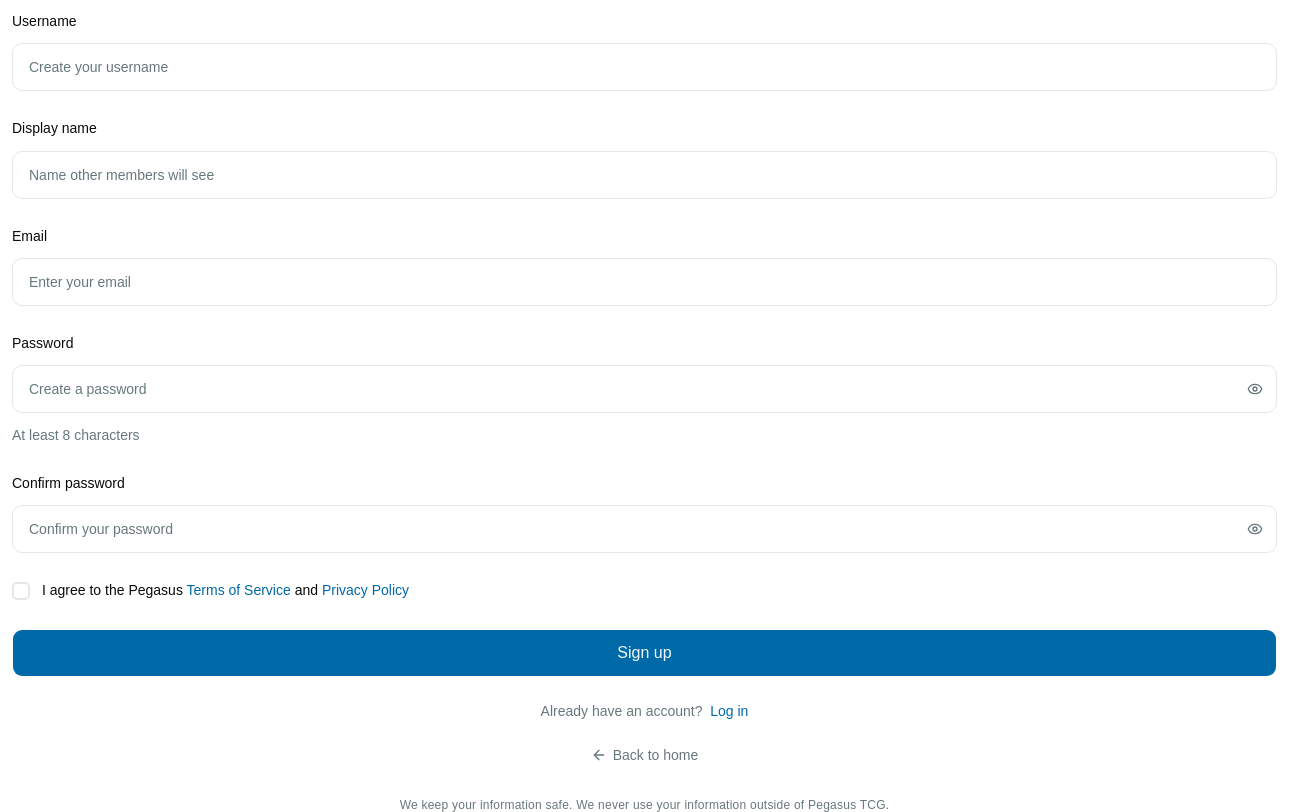
Test: RegisterForm › opens legal pages from their links while the agreement checkbox stays separate
Expected: the 1st checkbox is not checked, [12,582,30,600]
What coordinates should you click on to do the following:
click the checkbox "I agree to the Pegasus"
I would click on:
 (112, 590)
Its box is [42,582,183,598].
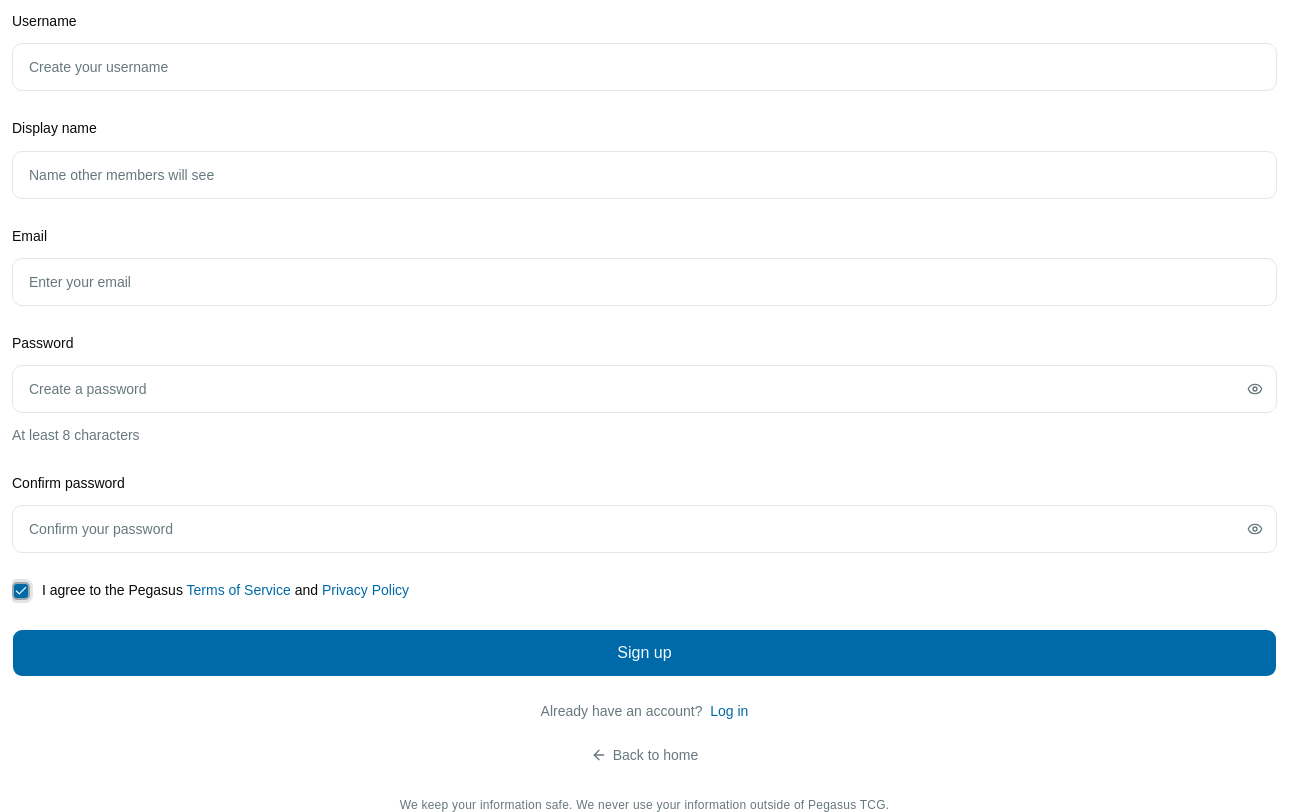
Result: the 1st checkbox is checked at [12,582,30,600]
What coordinates should you click on to do the following:
click the checkbox "I agree to the Pegasus"
I would click on:
 (112, 590)
Its box is [42,582,183,598].
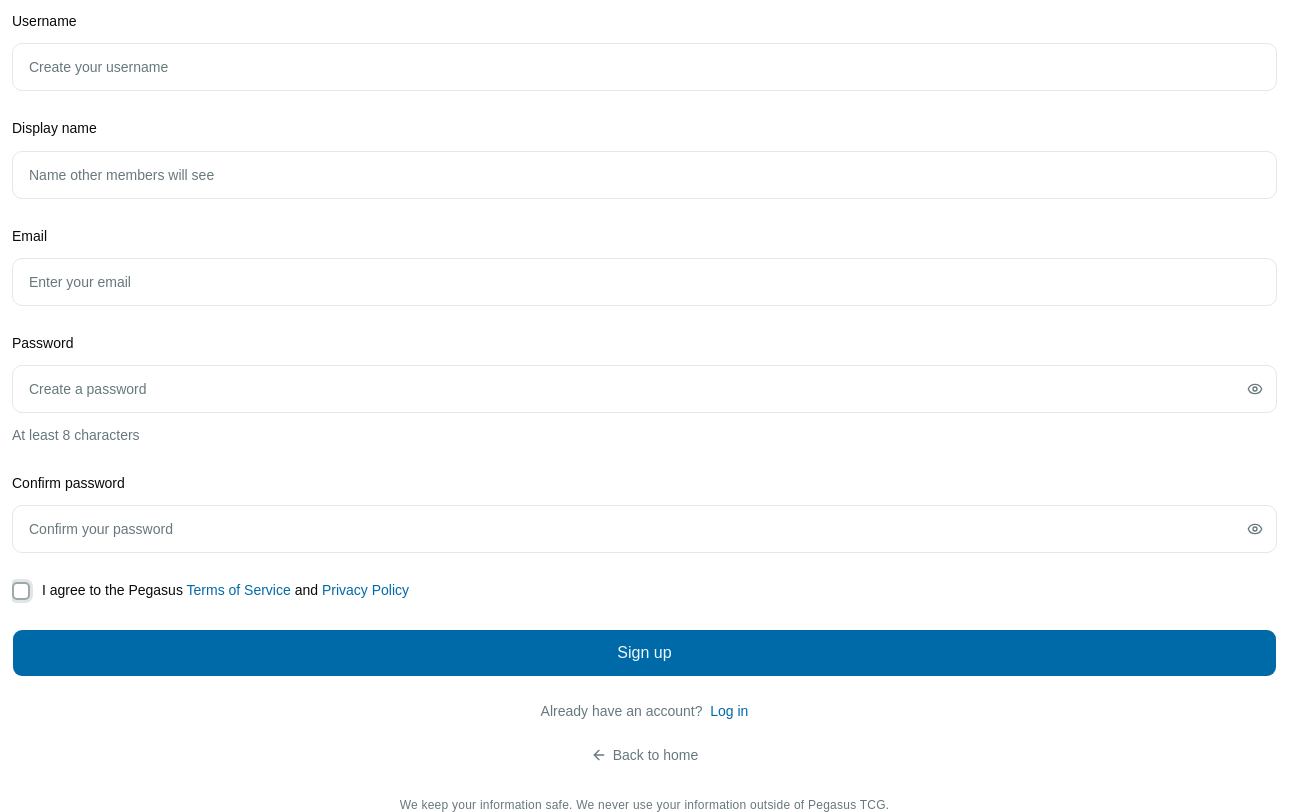
Result: the 1st checkbox is not checked at [12,582,30,600]
